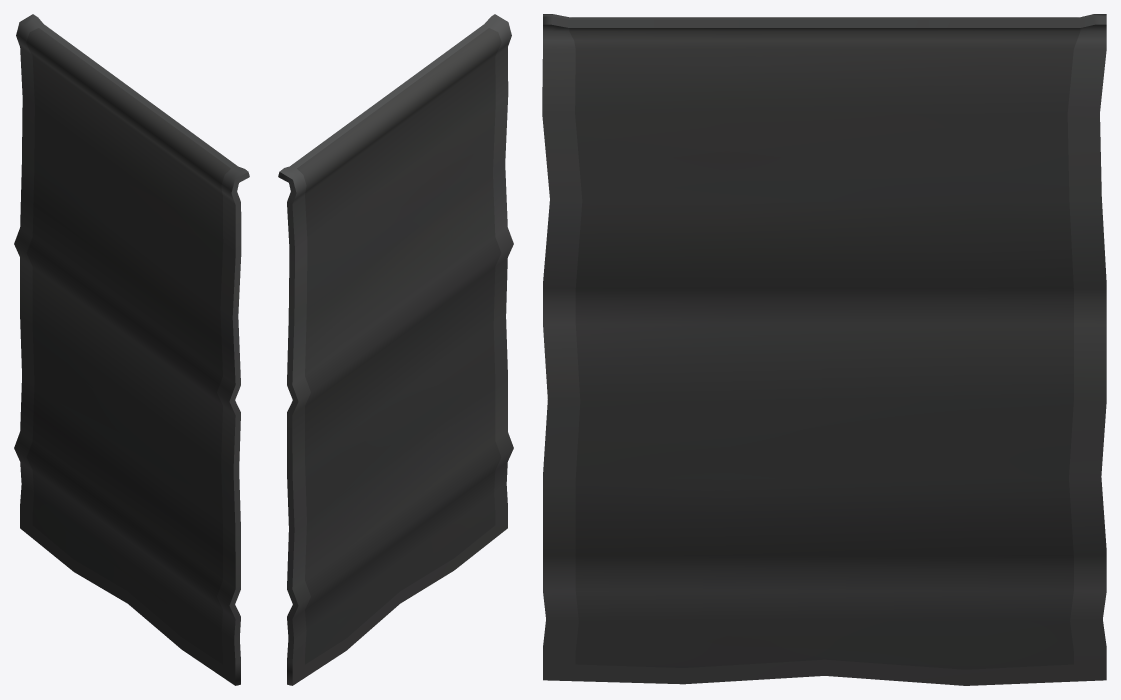
File: Scaffold_sheet_1_8.glb
The picture shows the model from 3 angles, left to right: view 1: azimuth 30°, elevation 25°; view 2: azimuth 150°, elevation 25°; view 3: azimuth 270°, elevation 25°; orthographic projection. The views are drawn at different scales.
Parts seen in each view (by area): view 1: Scaffold_sheet_1_8; view 2: Scaffold_sheet_1_8; view 3: Scaffold_sheet_1_8.
Part boxes in pixels (x1,y1,x2,y2): Scaffold_sheet_1_8: (14,14,249,685); Scaffold_sheet_1_8: (278,14,513,685); Scaffold_sheet_1_8: (542,14,1106,685).
Size of the model in its own units: 0.101 by 2.42 by 1.84.
Materials: 1 (1 with a texture image).
